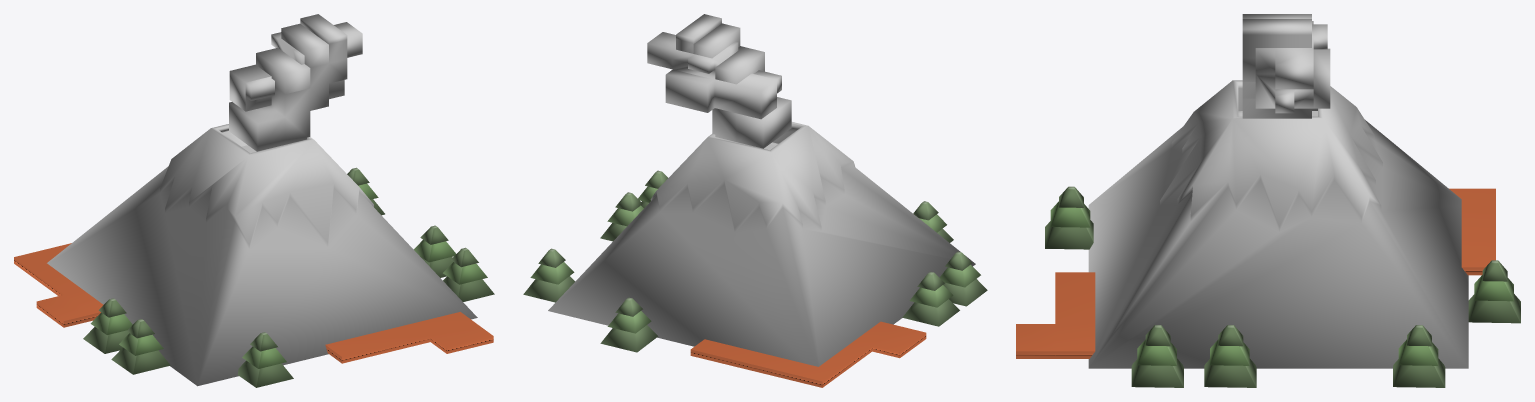
File: Volcano.fbx
The picture shows the model from 3 angles, left to right: view 1: azimuth 30°, elevation 25°; view 2: azimuth 150°, elevation 25°; view 3: azimuth 270°, elevation 25°; orthographic projection. The views are drawn at different scales.
Parts seen in each view (by area): view 1: Volcano, Cube, Lava, Lava_001, Cloud, Tree_001, Tree_004, Tree_005, Tree_000, Tree_006, Tree_002; view 2: Volcano, Cloud, Cube, Lava_001, Tree_000, Tree_003, Tree_002, Tree_001, Tree_006, Tree_004, Tree_005; view 3: Volcano, Cloud, Lava, Cube, Lava_001, Tree_002, Tree_006, Tree_005, Tree_003, Tree_004.
Boxes of the visible parts, box(x1,y1,x2,y2) form: Volcano: box(47, 124, 477, 386); Cube: box(229, 14, 347, 151); Lava: box(325, 312, 493, 363); Lava_001: box(14, 243, 103, 327); Cloud: box(229, 22, 362, 111); Tree_001: box(111, 319, 170, 374); Tree_004: box(237, 332, 293, 387); Tree_005: box(443, 247, 494, 301); Tree_000: box(83, 298, 132, 353); Tree_006: box(414, 225, 455, 277); Tree_002: box(347, 167, 384, 215); Volcano: box(548, 122, 975, 366); Cloud: box(647, 32, 781, 119); Cube: box(676, 14, 791, 148); Lava_001: box(690, 321, 926, 387); Tree_000: box(902, 271, 959, 326); Tree_003: box(600, 297, 658, 352); Tree_002: box(523, 248, 574, 302); Tree_001: box(939, 251, 987, 306); Tree_006: box(600, 192, 643, 241); Tree_004: box(913, 201, 953, 242); Tree_005: box(638, 170, 667, 207); Volcano: box(1088, 80, 1468, 368); Cloud: box(1255, 21, 1330, 113); Lava: box(1016, 272, 1095, 358); Cube: box(1242, 14, 1311, 118); Lava_001: box(1449, 188, 1495, 275); Tree_002: box(1393, 325, 1445, 387); Tree_006: box(1204, 325, 1256, 387); Tree_005: box(1131, 325, 1183, 387); Tree_003: box(1468, 260, 1520, 323); Tree_004: box(1045, 186, 1093, 249).
Size of the model in its own units: 5.28 by 3.56 by 5.41.
